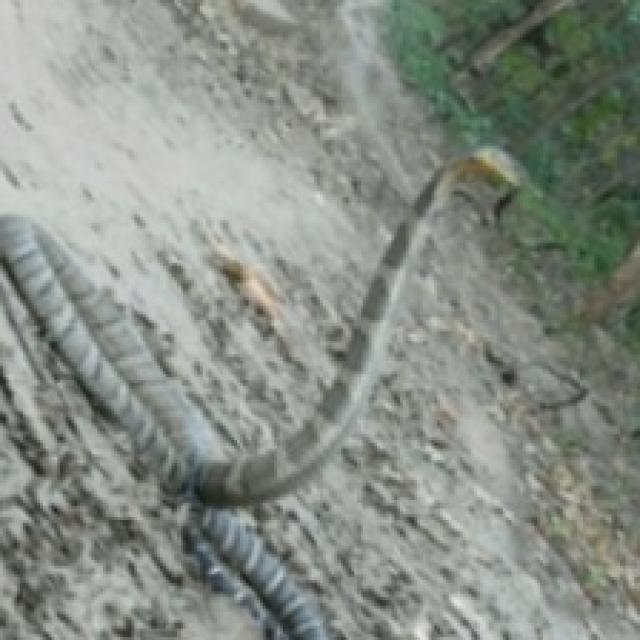king cobra: (0, 149, 517, 637)
